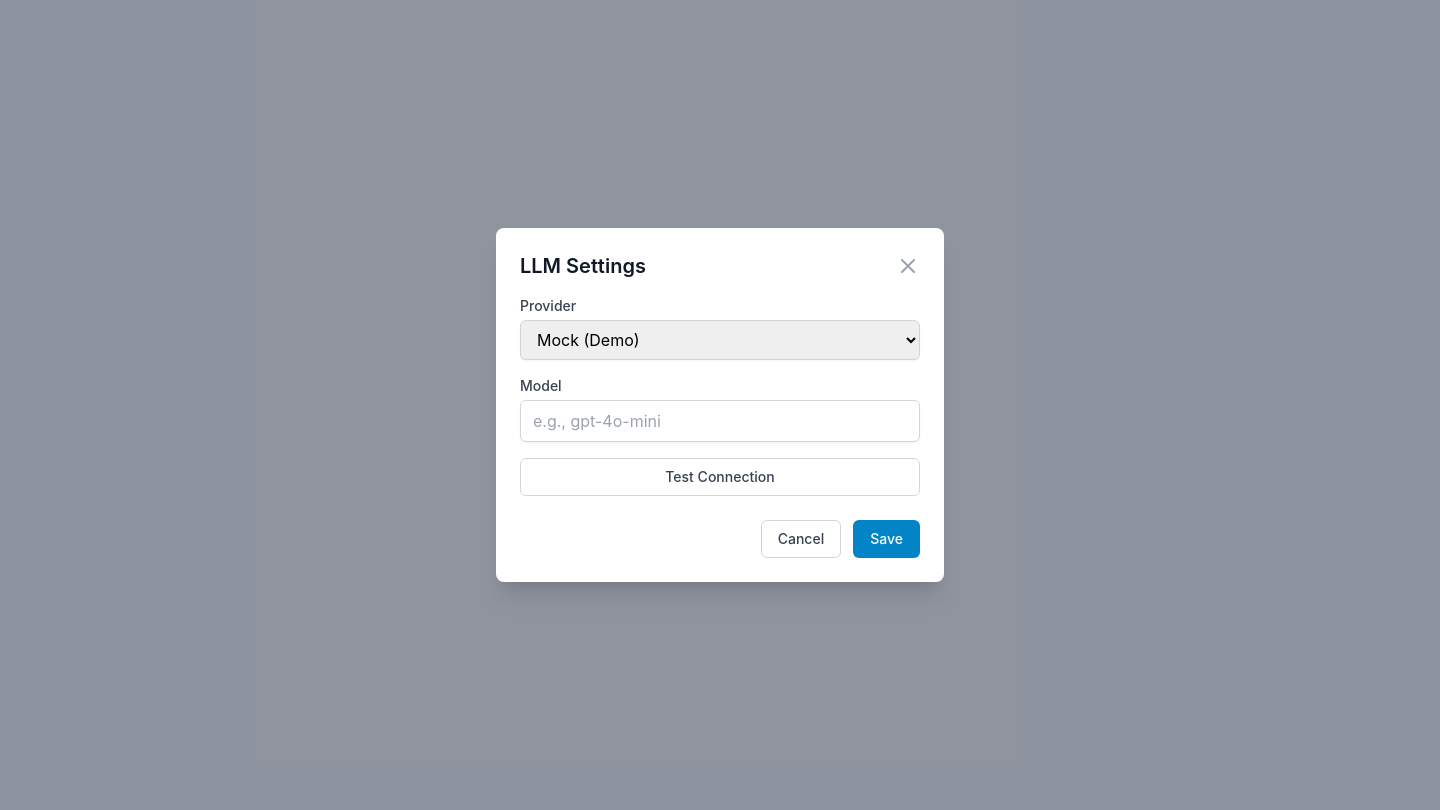
Test: LLMSettingsDialog › shows a fallback error when the provider returns no message
Click the button with test id "test-connection-button" at (720, 477), box [520,458,920,496]
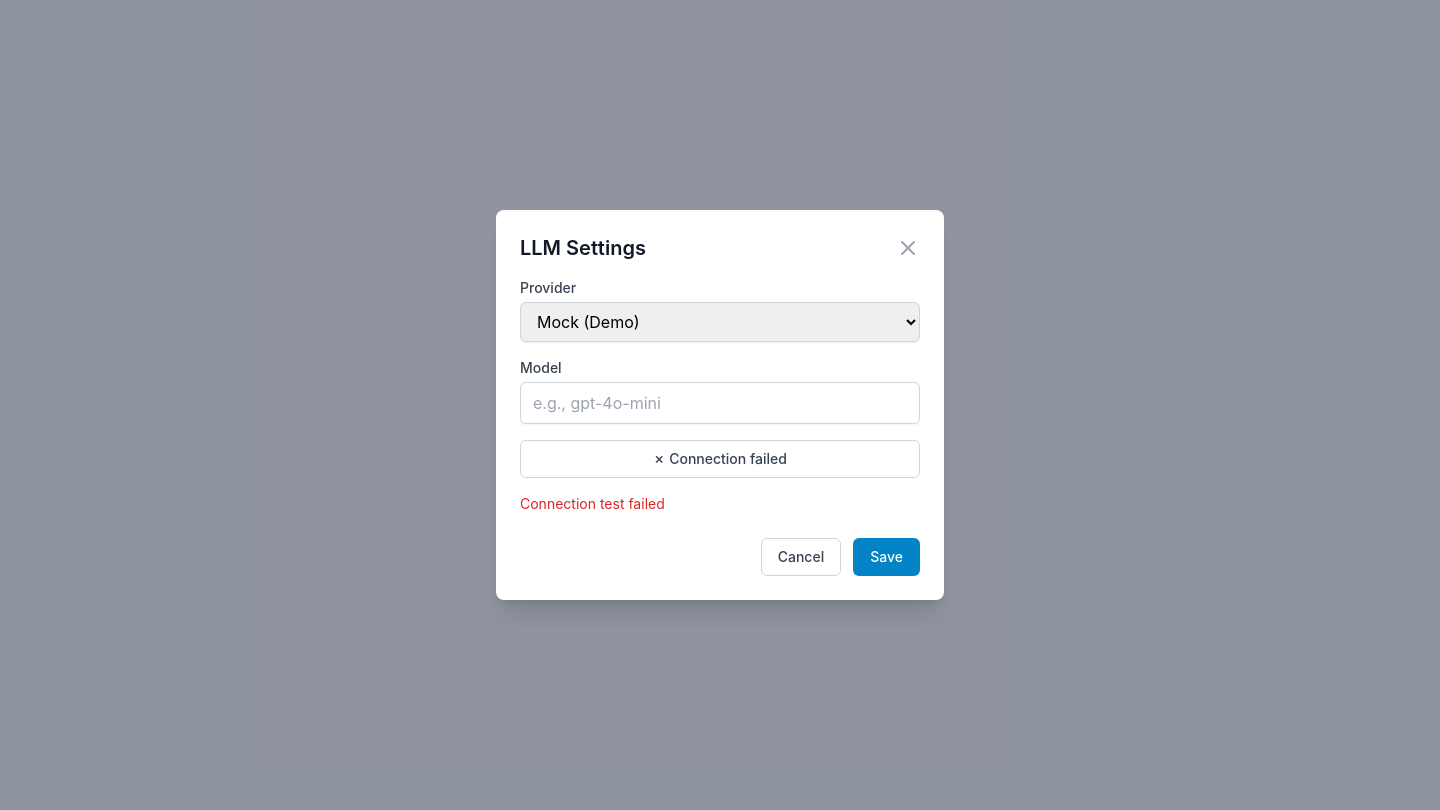
Now the text with test id "test-error" reads "Connection test failed", box [520,495,665,512]
